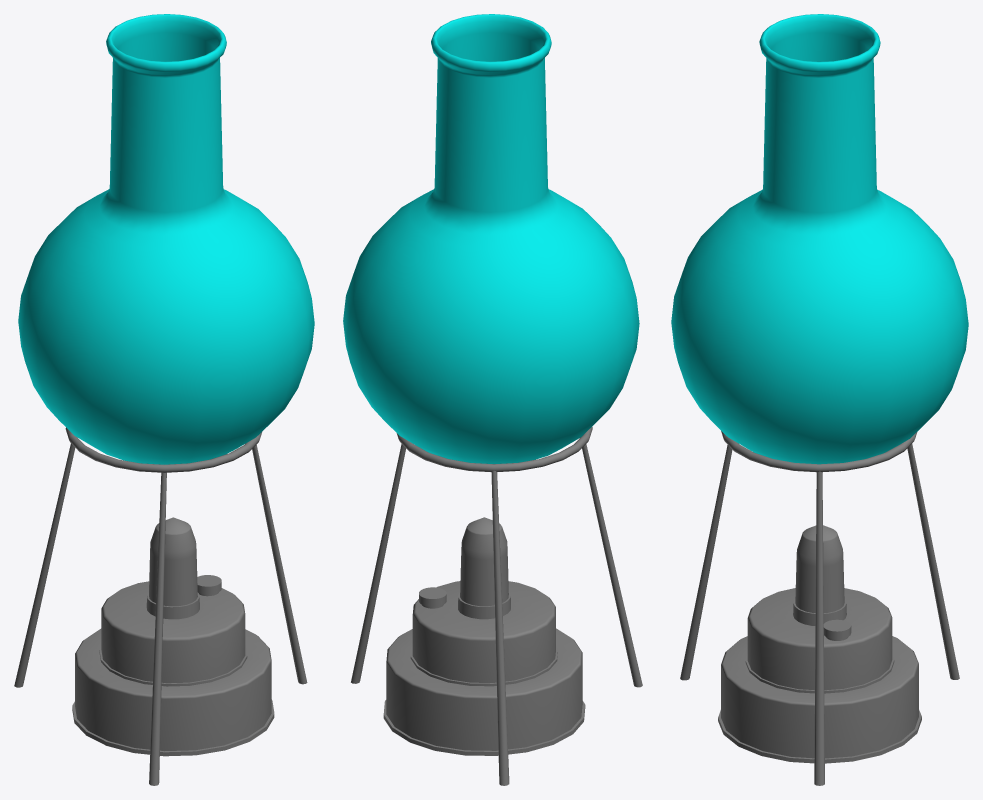
File: SM_Flask burner.fbx
3 renders of one model, left to right at view 1: azimuth 30°, elevation 25°; view 2: azimuth 150°, elevation 25°; view 3: azimuth 270°, elevation 25°, orthographic.
Parts seen in each view (by area): view 1: Flask_burner; view 2: Flask_burner; view 3: Flask_burner.
Boxes of the visible parts, box(x1,y1,x2,y2) form: Flask_burner: box(14, 14, 314, 785); Flask_burner: box(343, 14, 642, 785); Flask_burner: box(671, 14, 968, 785).
Size of what is drawn, in the model's own units: 12.54 by 30.23 by 12.
